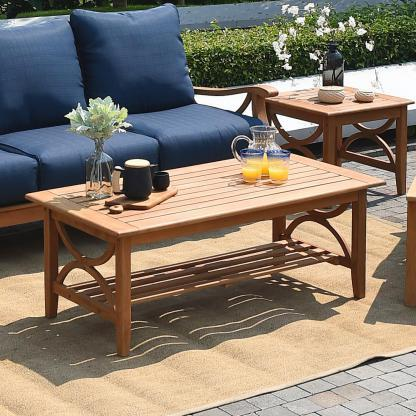table: (22, 138, 390, 360), (260, 72, 416, 204)
